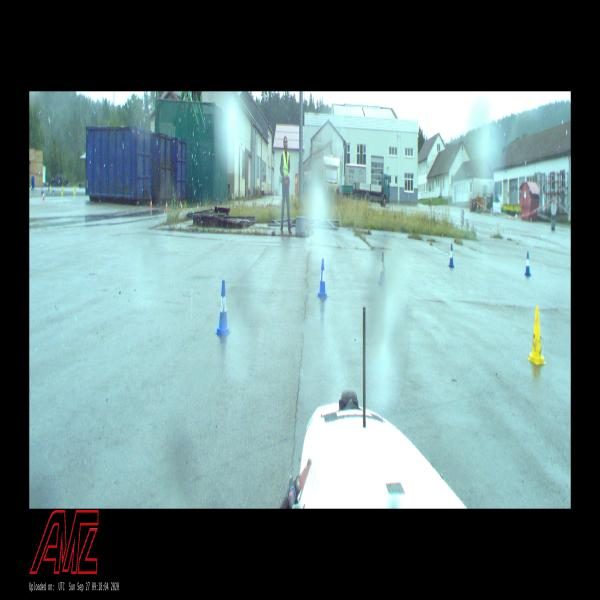blue_cone: (216, 280, 231, 335), (318, 258, 327, 297), (379, 252, 386, 286), (524, 252, 531, 276), (449, 244, 454, 267)
orange_cone: (150, 200, 152, 209), (42, 191, 44, 200), (166, 201, 168, 210), (197, 203, 199, 209), (181, 202, 182, 208)
yellow_cone: (527, 305, 547, 365)
